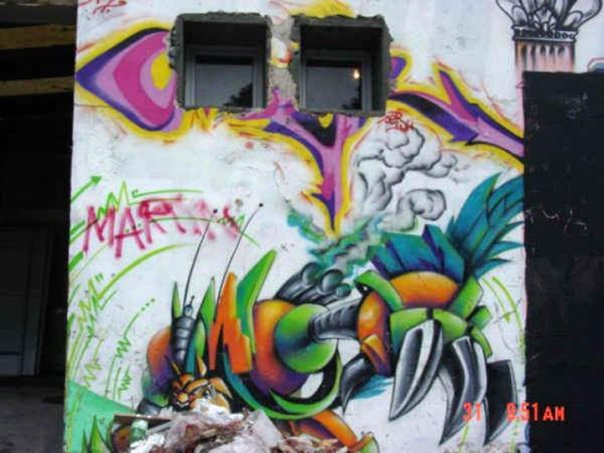graffity: (70, 173, 526, 450), (77, 1, 524, 230), (72, 176, 261, 260)
